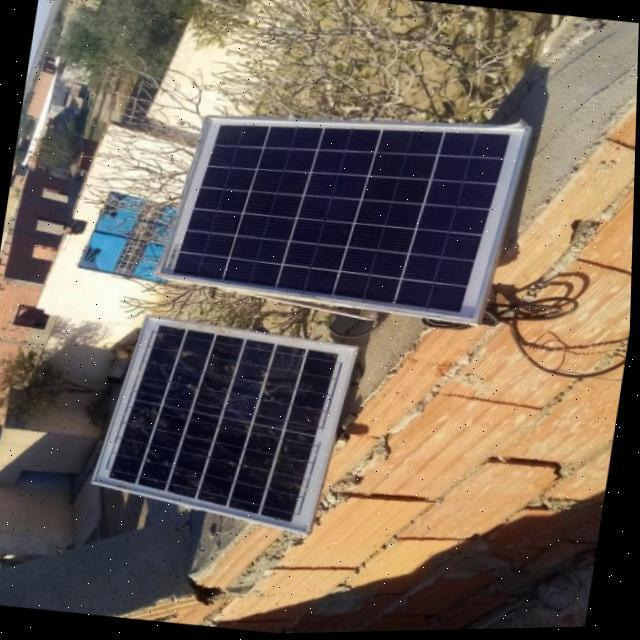Normal Solar Panel: (153, 87, 530, 334)
